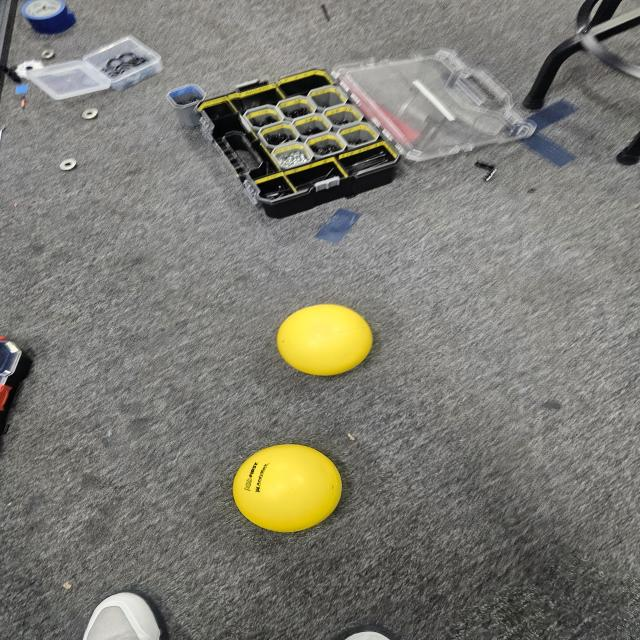Fuel: (224, 440, 356, 534), (268, 297, 381, 381)
